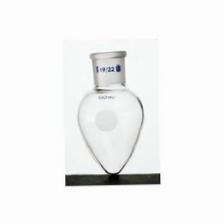Pear shaped flask: (77, 34, 145, 173)
